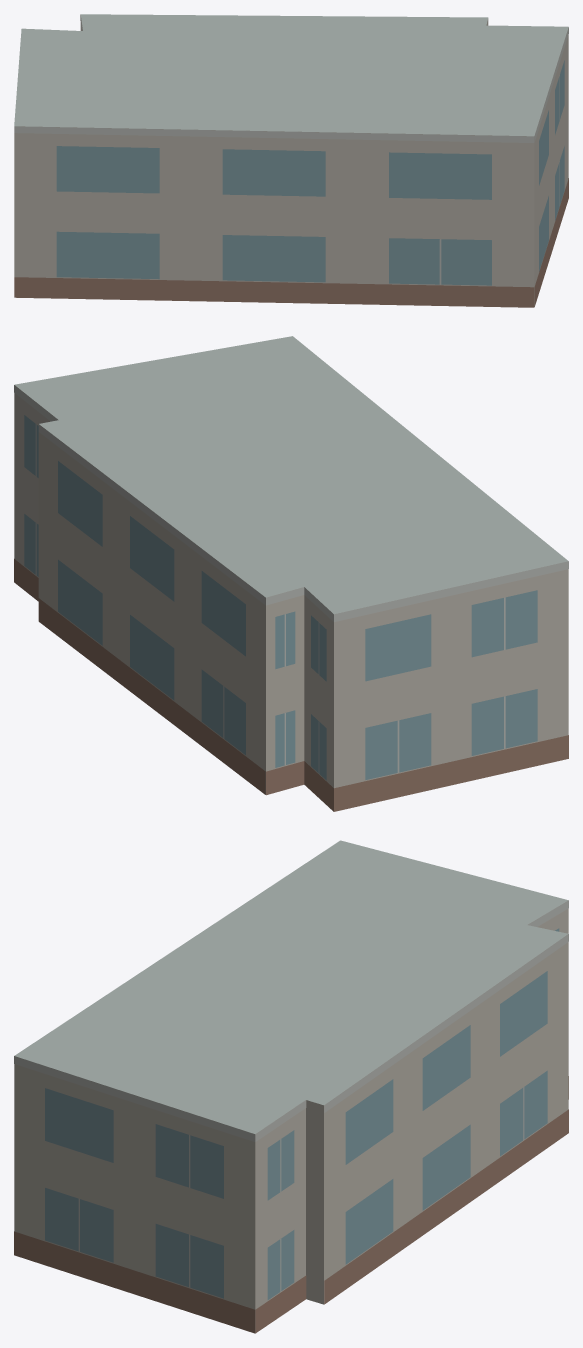
Rendered from survey-upis-32893316.glb.
3 views of the same model, one above another, from view 1: azimuth 30°, elevation 25°; view 2: azimuth 150°, elevation 25°; view 3: azimuth 270°, elevation 25° (orthographic). The views are drawn at different scales.
Visible parts, largest first — view 1: survey-upis-32893316.tmp; view 2: survey-upis-32893316.tmp; view 3: survey-upis-32893316.tmp.
Boxes of the visible parts, box(x1,y1,x2,y2) form: survey-upis-32893316.tmp: box(14, 14, 568, 307); survey-upis-32893316.tmp: box(14, 336, 568, 811); survey-upis-32893316.tmp: box(14, 840, 568, 1333).
Bounding box in the file's own units: 19.3 × 6.1 × 15.39.
